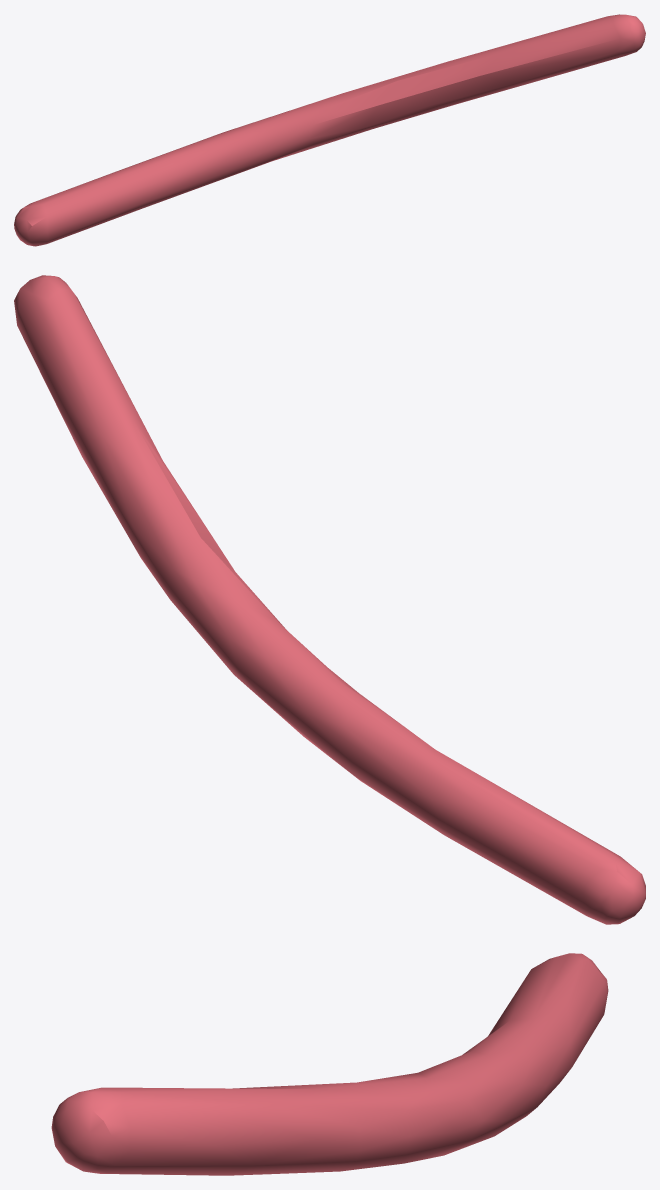
Rendered from fma22773_fj2231.glb.
The picture shows the model from 3 angles, top to bottom: view 1: azimuth 30°, elevation 25°; view 2: azimuth 150°, elevation 25°; view 3: azimuth 270°, elevation 25°; orthographic projection. The views are drawn at different scales.
Parts seen in each view (by area): view 1: FMA22773_FJ2231; view 2: FMA22773_FJ2231; view 3: FMA22773_FJ2231.
Part boxes in pixels (x1,y1,x2,y2): FMA22773_FJ2231: (14,14,645,246); FMA22773_FJ2231: (14,275,645,924); FMA22773_FJ2231: (51,953,608,1175).
Size of the model in its own units: 0.0197 by 0.00743 by 0.00933.
